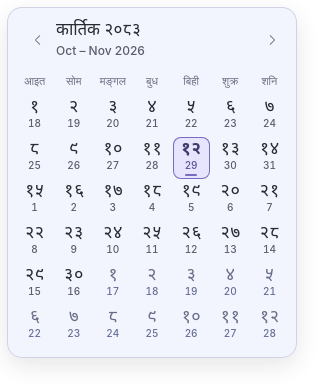
Test: month navigation steps by one month in the displayed calendar
The width and height of the screenshot is (320, 386).
Step 1. Click the button named "अर्को महिना" → (272, 40), box [258,26,286,54]
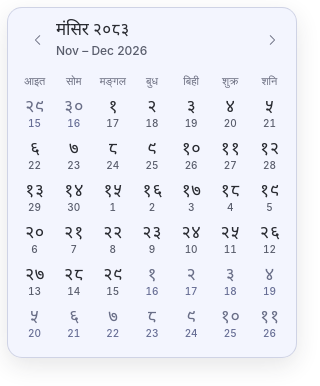
Expected: the button with class "_patro_header_title" reads "मंसिर २०८३", [50,18,136,44]
Step 2. Click the button named "अघिल्लो महिना" → (38, 40), box [24,26,52,54]
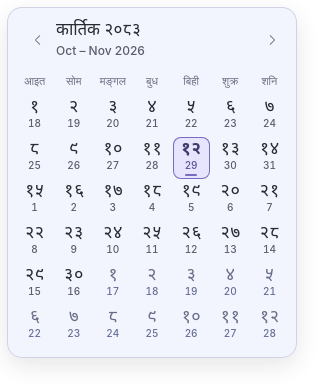
Step 3. Click the button named "अघिल्लो महिना" → (38, 40), box [24,26,52,54]
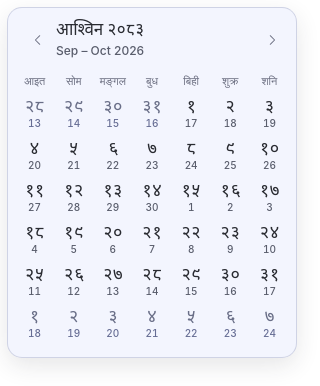
Expected: the button with class "_patro_header_title" reads "आश्विन २०८३", [50,18,150,44]
